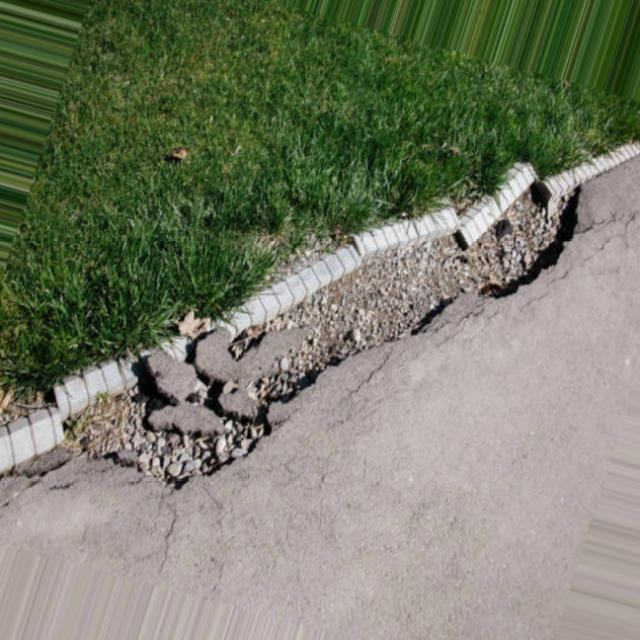Pinggir: (24, 138, 592, 476)
